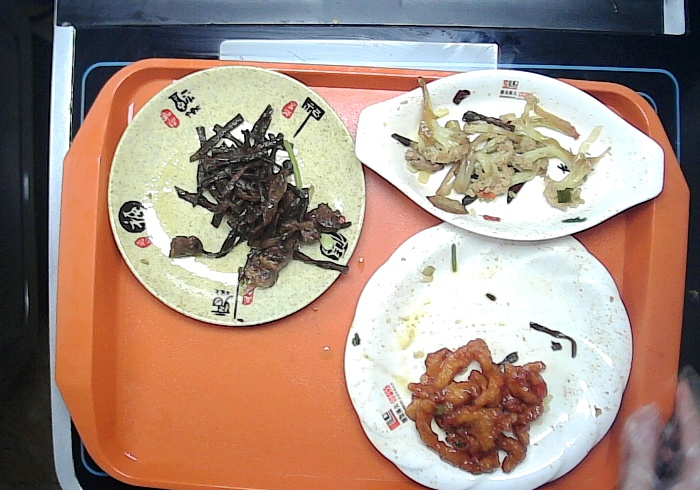NLDX-Bai_Zhe_Yuan_Pan: (341, 212, 636, 490)
NLDX-Fu_Zi_Yuan_Pan: (105, 62, 368, 330)
NLDX-Yu_Pan: (352, 69, 667, 242)
